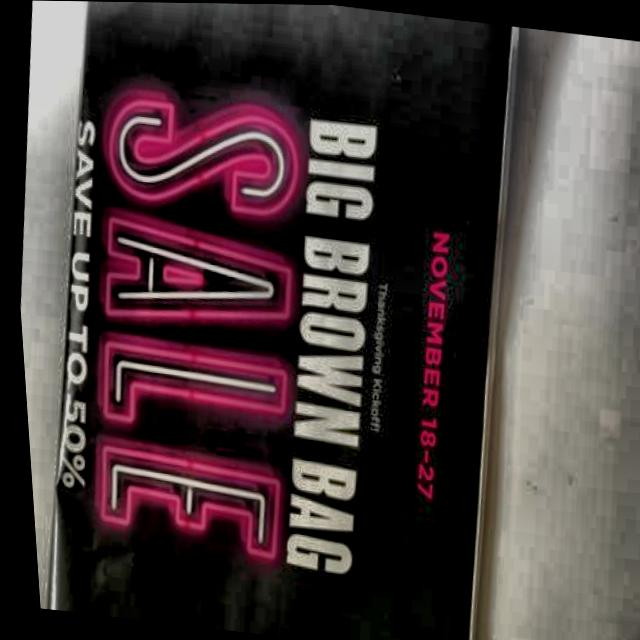Paper: (0, 0, 566, 640)
